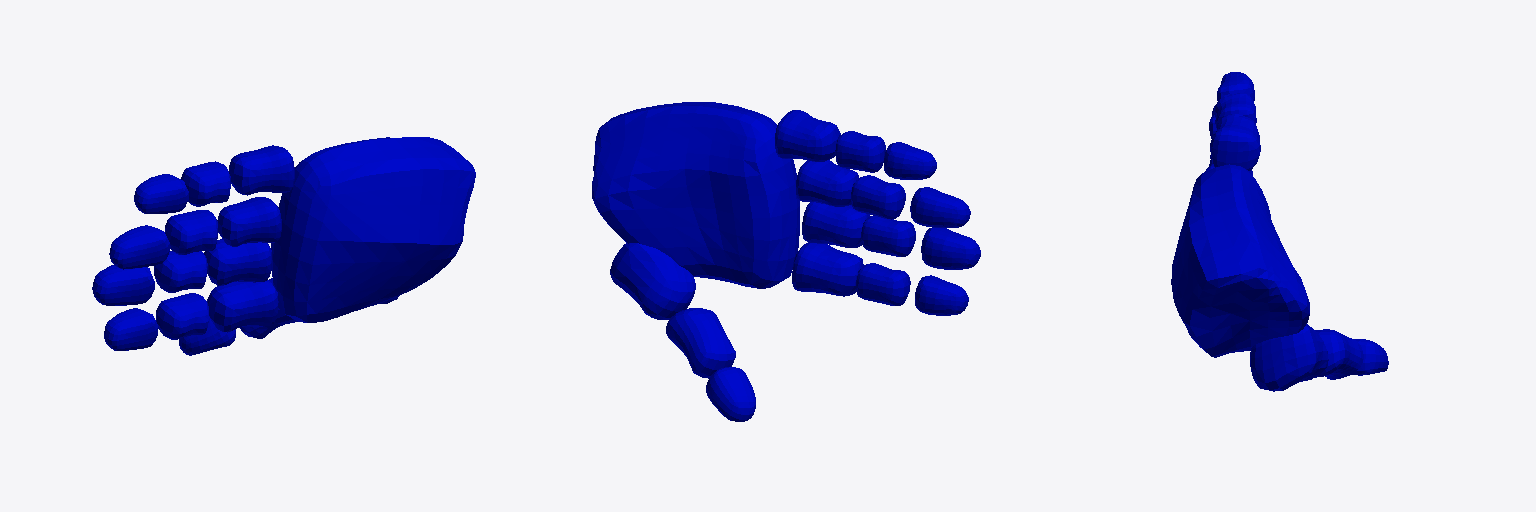
File: R_Hand.obj
3 renders of one model, left to right at view 1: azimuth 30°, elevation 25°; view 2: azimuth 150°, elevation 25°; view 3: azimuth 270°, elevation 25°, orthographic.
Visible parts, largest first — view 1: R_Hand_Alpha_Surface.038; view 2: R_Hand_Alpha_Surface.038; view 3: R_Hand_Alpha_Surface.038.
Boxes of the visible parts, box(x1,y1,x2,y2) form: R_Hand_Alpha_Surface.038: box(92, 137, 475, 355); R_Hand_Alpha_Surface.038: box(592, 102, 980, 421); R_Hand_Alpha_Surface.038: box(1171, 72, 1388, 391).
Bounding box in the file's own units: 0.2321 × 0.1502 × 0.1177.